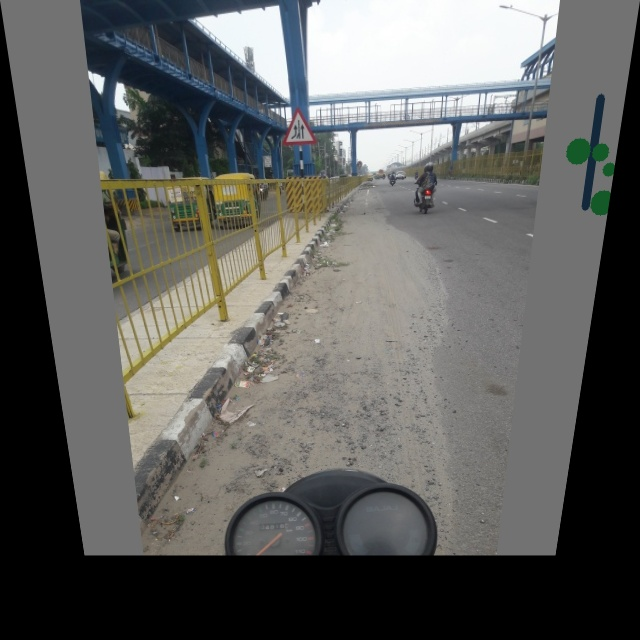Merge_Traffic_Ahead: (278, 97, 319, 149)
